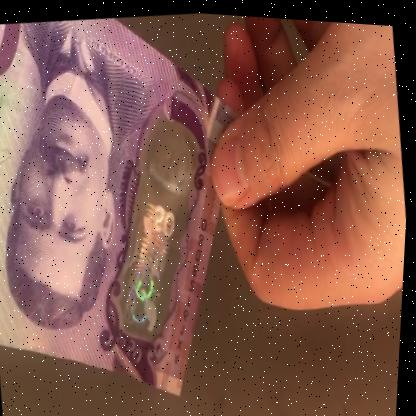50F: (102, 132, 211, 337)
